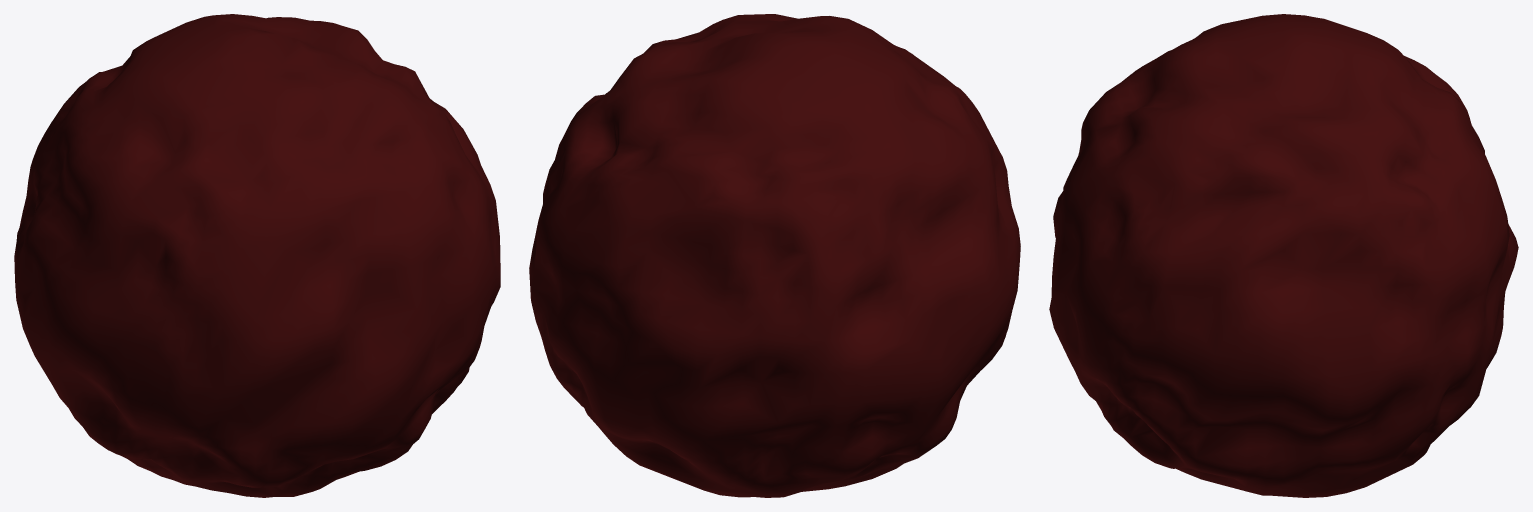
File: DriedBerryModel.FBX
3 renders of one model, left to right at view 1: azimuth 30°, elevation 25°; view 2: azimuth 150°, elevation 25°; view 3: azimuth 270°, elevation 25°, orthographic. The views are drawn at different scales.
Visible parts, largest first — view 1: Box001; view 2: Box001; view 3: Box001.
Part boxes in pixels (x1=…): Box001: x1=14, y1=14, x2=500, y2=497; Box001: x1=529, y1=14, x2=1020, y2=497; Box001: x1=1049, y1=14, x2=1518, y2=497.
Bounding box in the file's own units: 4.9 × 4.8 × 4.76.
